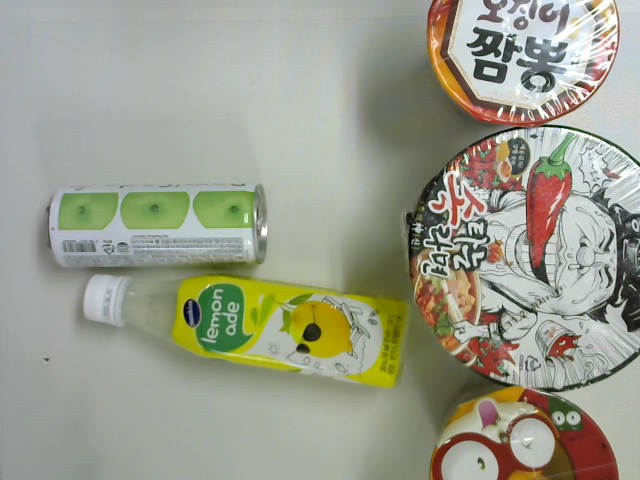Demisoda_Apple_Can_250ml: (46, 181, 269, 269)
HeJangsock: (405, 125, 640, 393)
Ojjam: (426, 1, 622, 127)
Raccoon: (429, 385, 620, 480)
Sunkist_Lemonaid_Pet: (82, 272, 413, 392)
